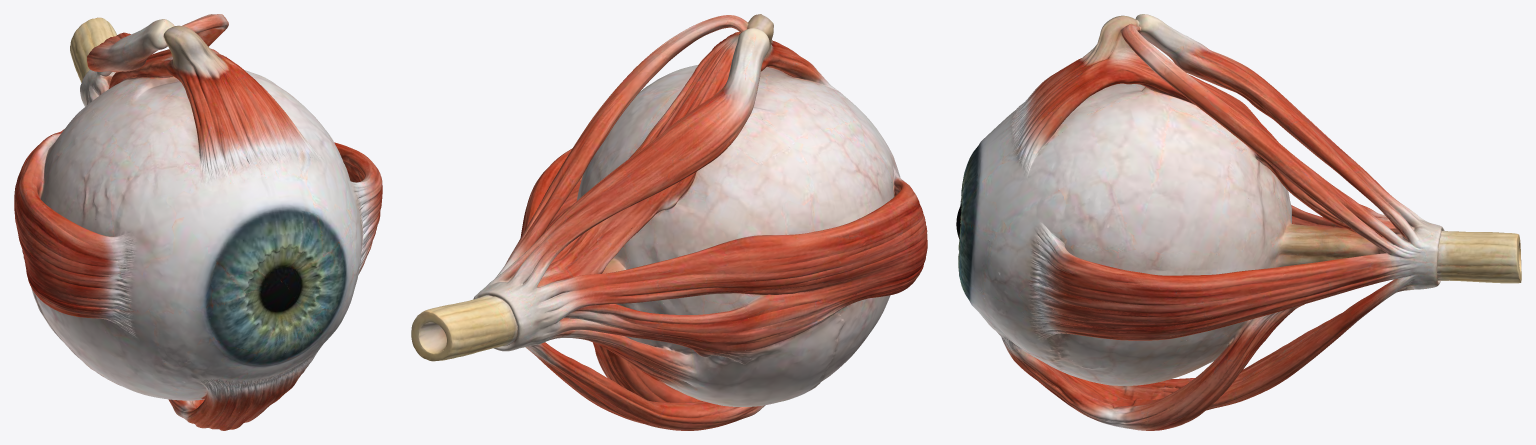
File: human-eye.glb
The picture shows the model from 3 angles, left to right: view 1: azimuth 30°, elevation 25°; view 2: azimuth 150°, elevation 25°; view 3: azimuth 270°, elevation 25°; orthographic projection. The views are drawn at different scales.
Visible parts, largest first — view 1: human-eye; view 2: human-eye; view 3: human-eye.
Part boxes in pixels (left/top/right/bottom): human-eye: left=14, top=14, right=382, bottom=430; human-eye: left=411, top=14, right=927, bottom=430; human-eye: left=956, top=14, right=1521, bottom=430.
Size of the model in its own units: 0.0306 by 0.0342 by 0.045.
Materials: 1 (1 with a texture image).
